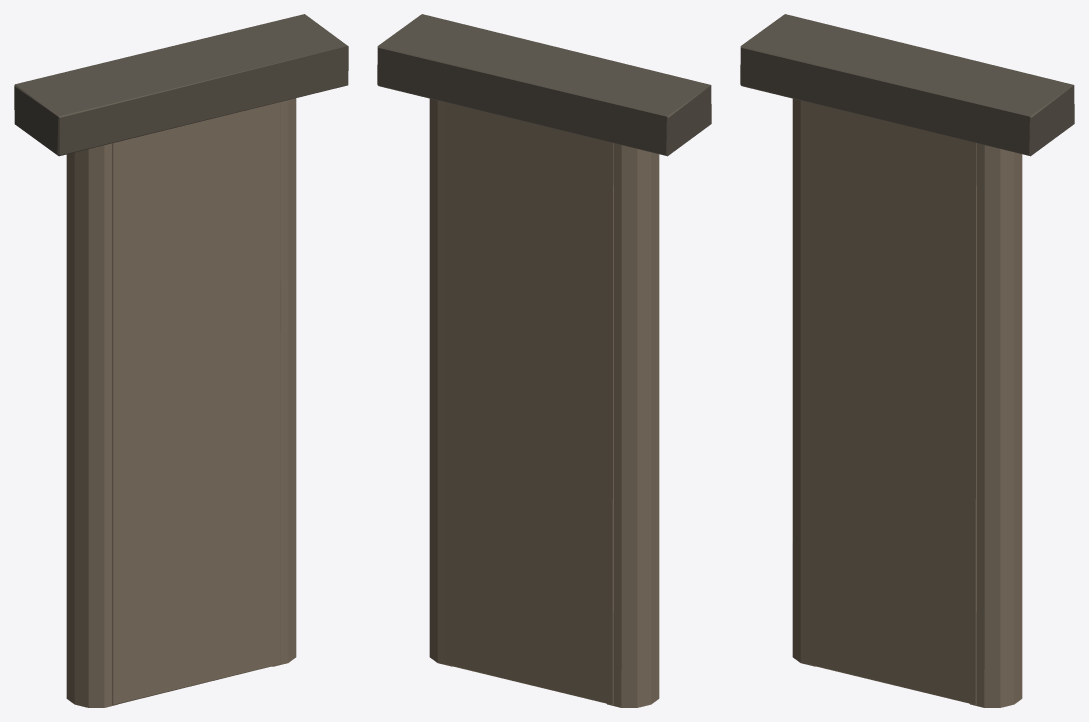
Rendered from bridge-pier-lod1.glb.
The picture shows the model from 3 angles, left to right: view 1: azimuth 30°, elevation 25°; view 2: azimuth 150°, elevation 25°; view 3: azimuth 330°, elevation 25°; orthographic projection.
Parts seen in each view (by area): view 1: bridge-pier.001; view 2: bridge-pier.001; view 3: bridge-pier.001.
Part boxes in pixels (x1,y1,x2,y2): bridge-pier.001: [14, 14, 348, 707]; bridge-pier.001: [377, 14, 711, 707]; bridge-pier.001: [740, 14, 1074, 707].
Bounding box in the file's own units: 6 × 11.99 × 1.6.
